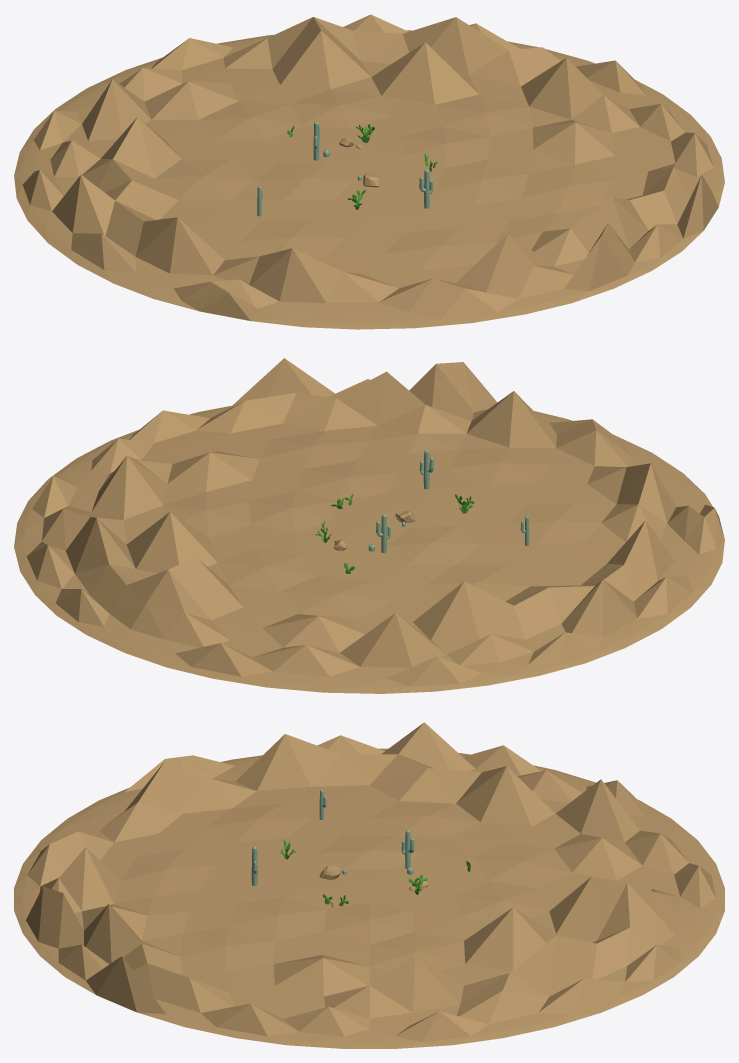
The model's file is desert.dae.
3 views of the same model, one above another, from view 1: azimuth 30°, elevation 25°; view 2: azimuth 150°, elevation 25°; view 3: azimuth 270°, elevation 25° (orthographic).
Parts seen in each view (by area): view 1: Icosphere_008; view 2: Icosphere_008; view 3: Icosphere_008.
Boxes of the visible parts, <box> form: Icosphere_008: <box>14,14,724,329</box>; Icosphere_008: <box>14,358,724,693</box>; Icosphere_008: <box>14,722,724,1048</box>.
Bounding box in the file's own units: 33.02 × 33.05 × 2.76.
